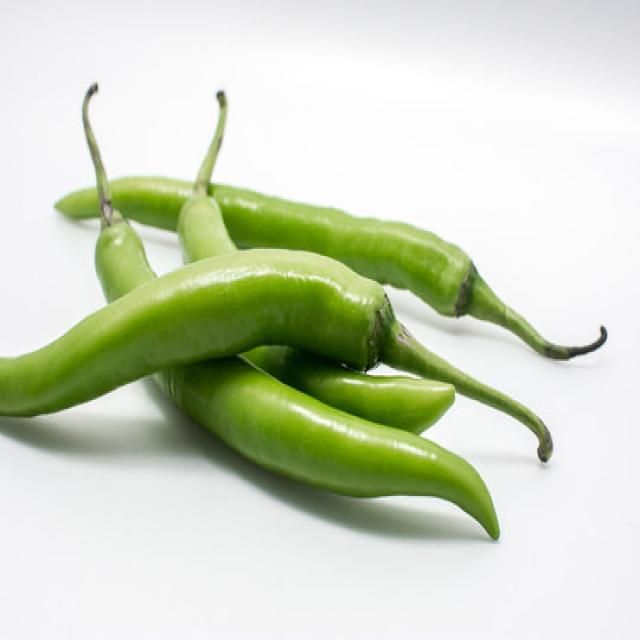Chilli: (0, 242, 552, 466), (147, 352, 500, 540), (43, 156, 455, 297), (236, 343, 455, 436)
